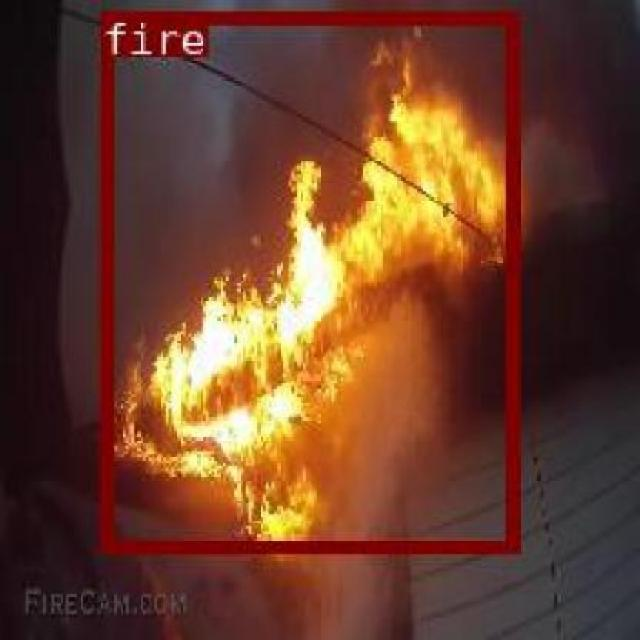fire: (98, 8, 516, 550)
